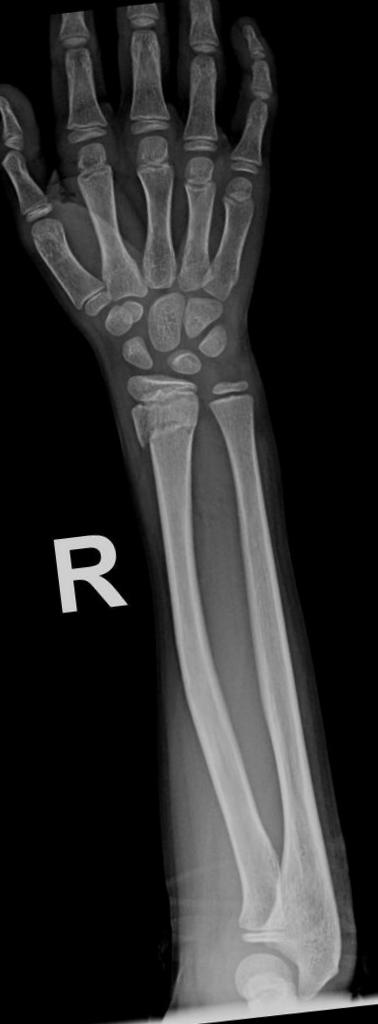line: (132, 414, 200, 454)
